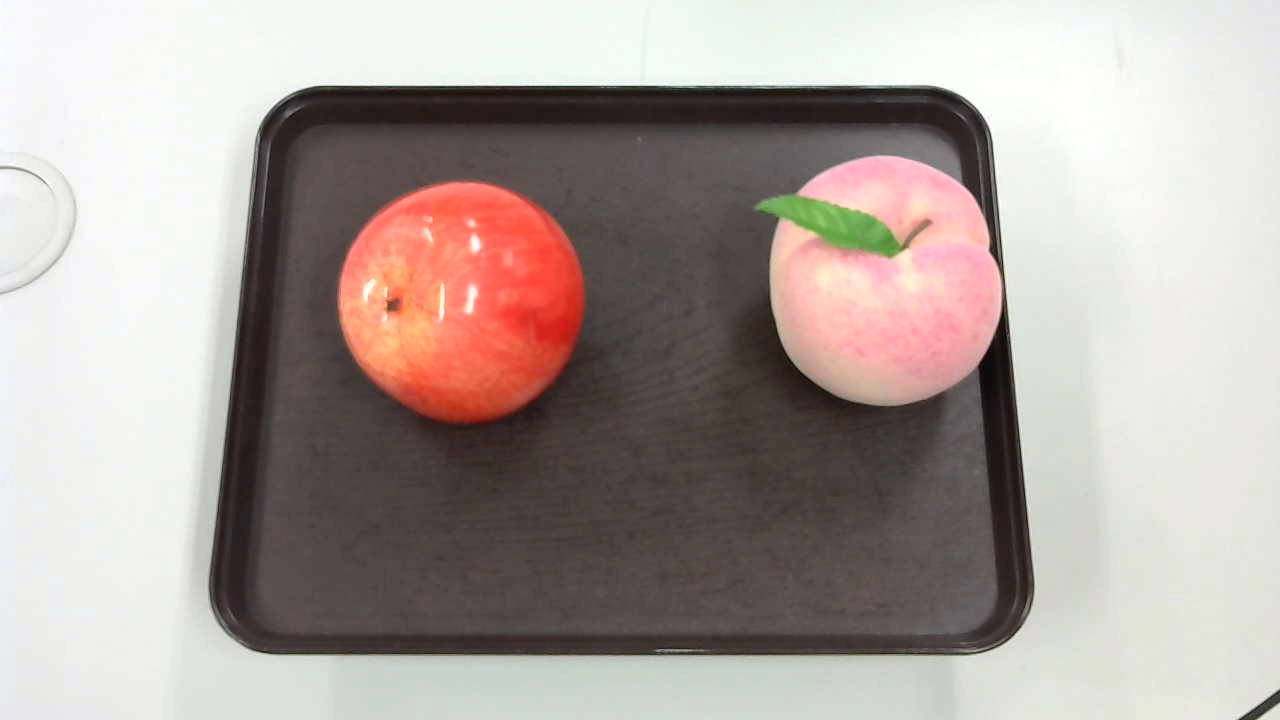peach: (752, 156, 1010, 414)
red apple: (340, 176, 591, 428)
